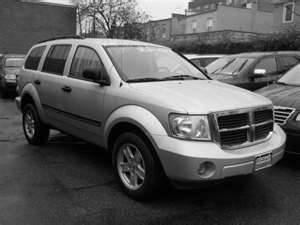car: (18, 38, 286, 201)
